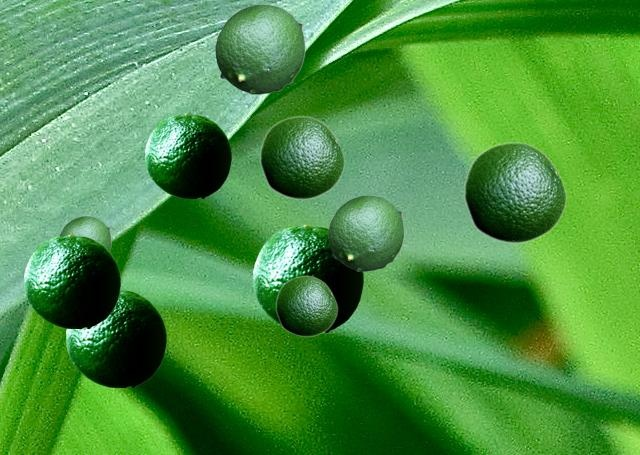calamansi: (253, 224, 362, 331), (463, 141, 566, 243), (66, 289, 165, 386), (24, 234, 119, 327), (215, 4, 304, 93), (145, 113, 230, 197), (259, 115, 344, 199), (328, 195, 403, 270), (275, 275, 337, 336), (59, 216, 110, 251)
